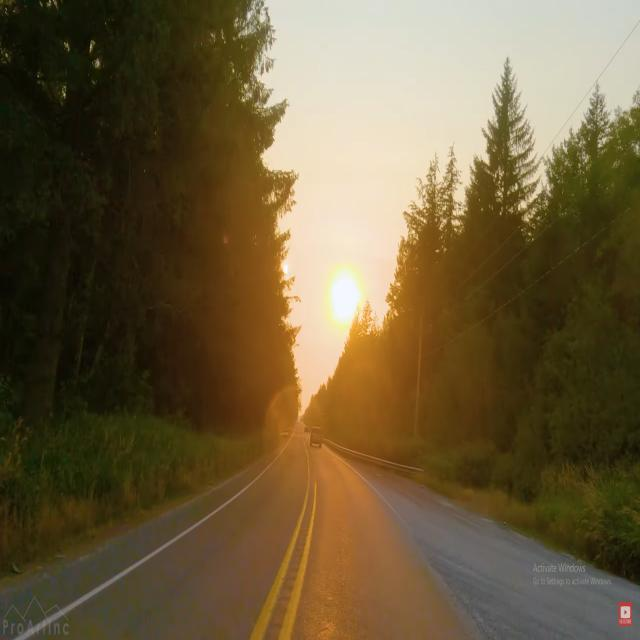sun: (324, 266, 368, 333)
